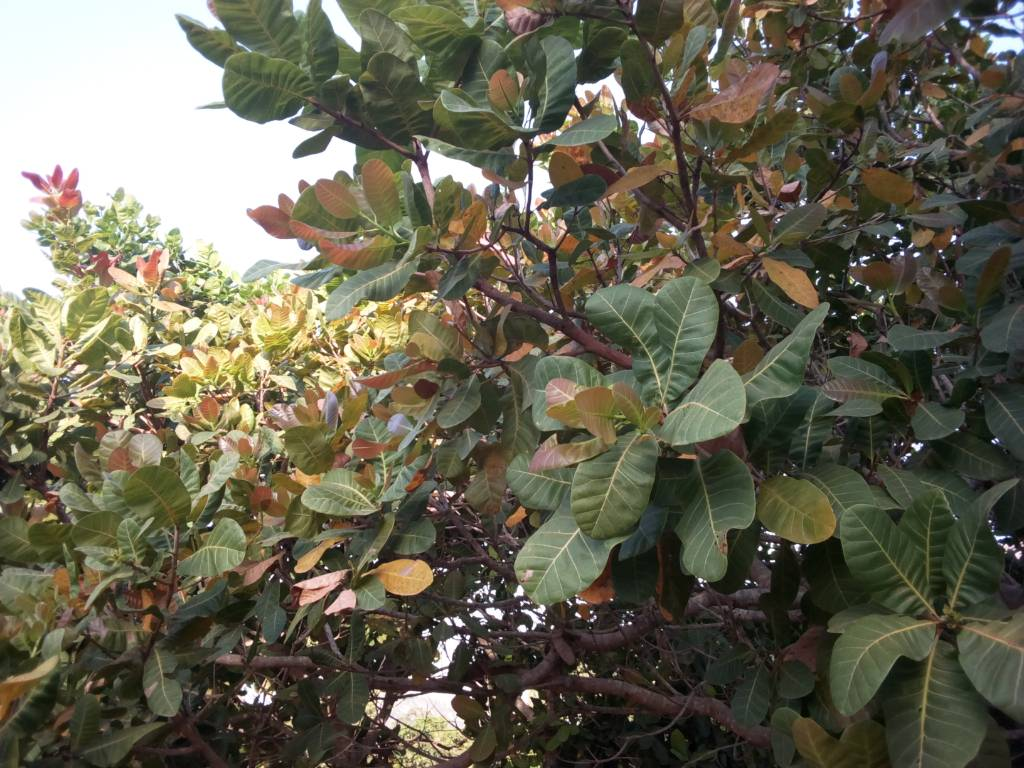Helopeltis anacardii: (658, 273, 711, 397), (435, 91, 536, 151)
